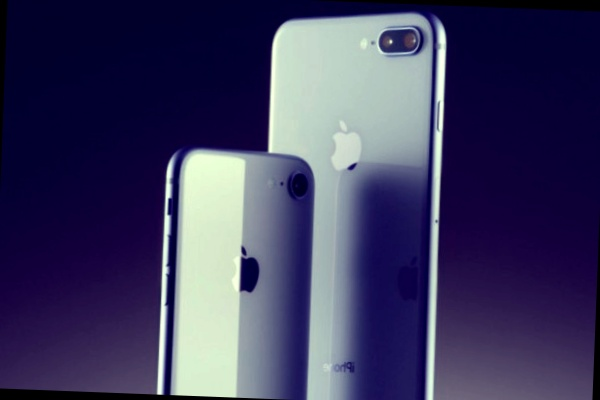iphone: (286, 149, 435, 400)
